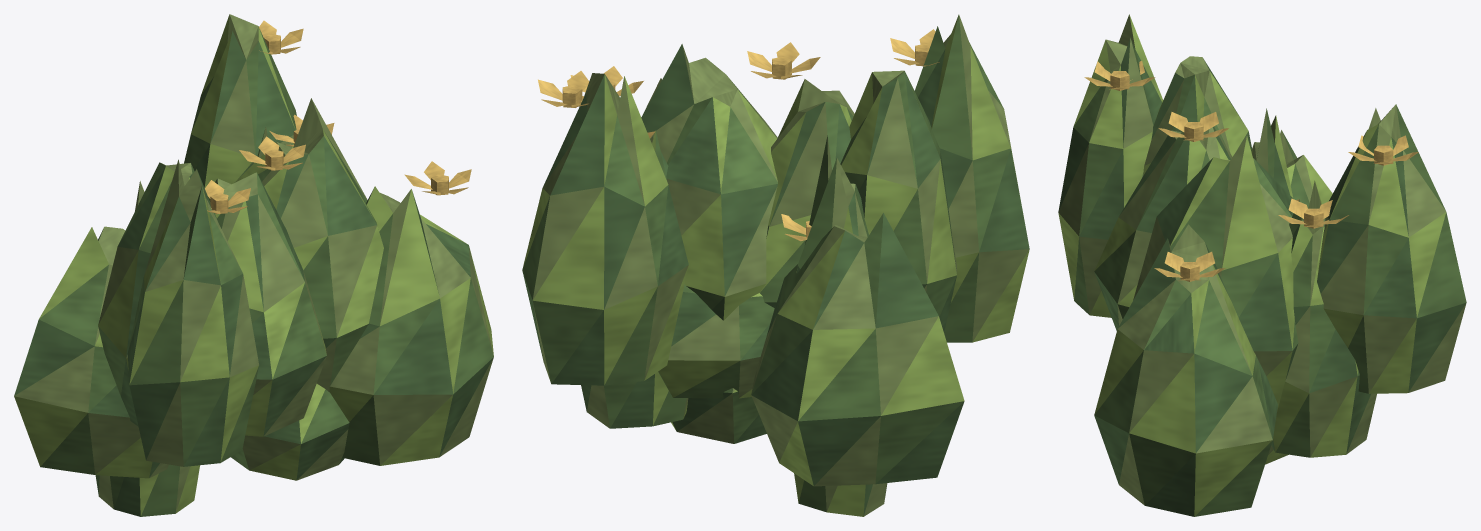
File: bush_flowering_03.fbx
3 renders of one model, left to right at view 1: azimuth 30°, elevation 25°; view 2: azimuth 150°, elevation 25°; view 3: azimuth 270°, elevation 25°, orthographic. The views are drawn at different scales.
Visible parts, largest first — view 1: bush_flowering_03; view 2: bush_flowering_03; view 3: bush_flowering_03.
Part boxes in pixels (box(x1,y1,x2,y2)): bush_flowering_03: box(14, 14, 493, 516); bush_flowering_03: box(522, 14, 1029, 516); bush_flowering_03: box(1058, 14, 1466, 516).
Bounding box in the file's own units: 170 × 150 × 142.
1 material, 1 textured.
